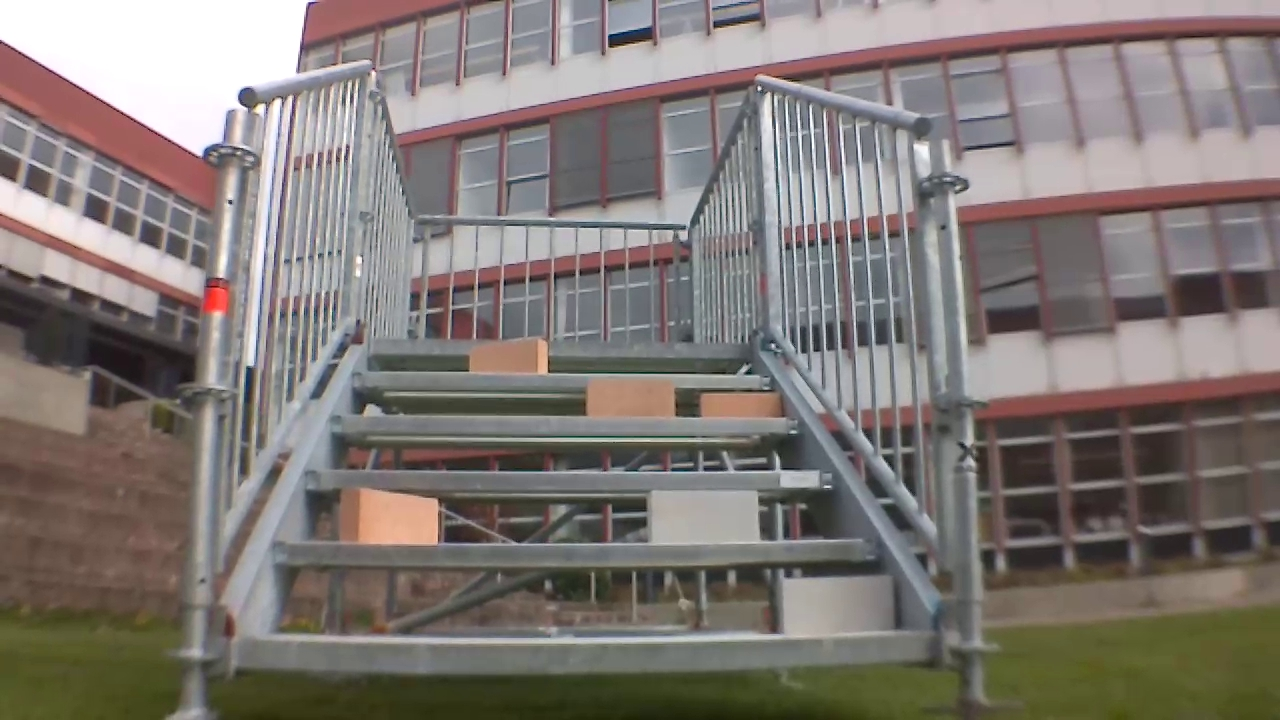brick: (778, 578, 894, 632), (647, 490, 756, 543), (342, 487, 437, 544), (587, 377, 674, 420), (470, 337, 548, 375), (700, 392, 779, 419)
edge: (235, 634, 935, 667), (274, 540, 881, 564), (303, 470, 833, 490), (327, 414, 800, 434), (372, 337, 750, 358), (353, 371, 769, 389)
stairs: (172, 60, 1009, 717)
steps: (230, 331, 942, 674)
